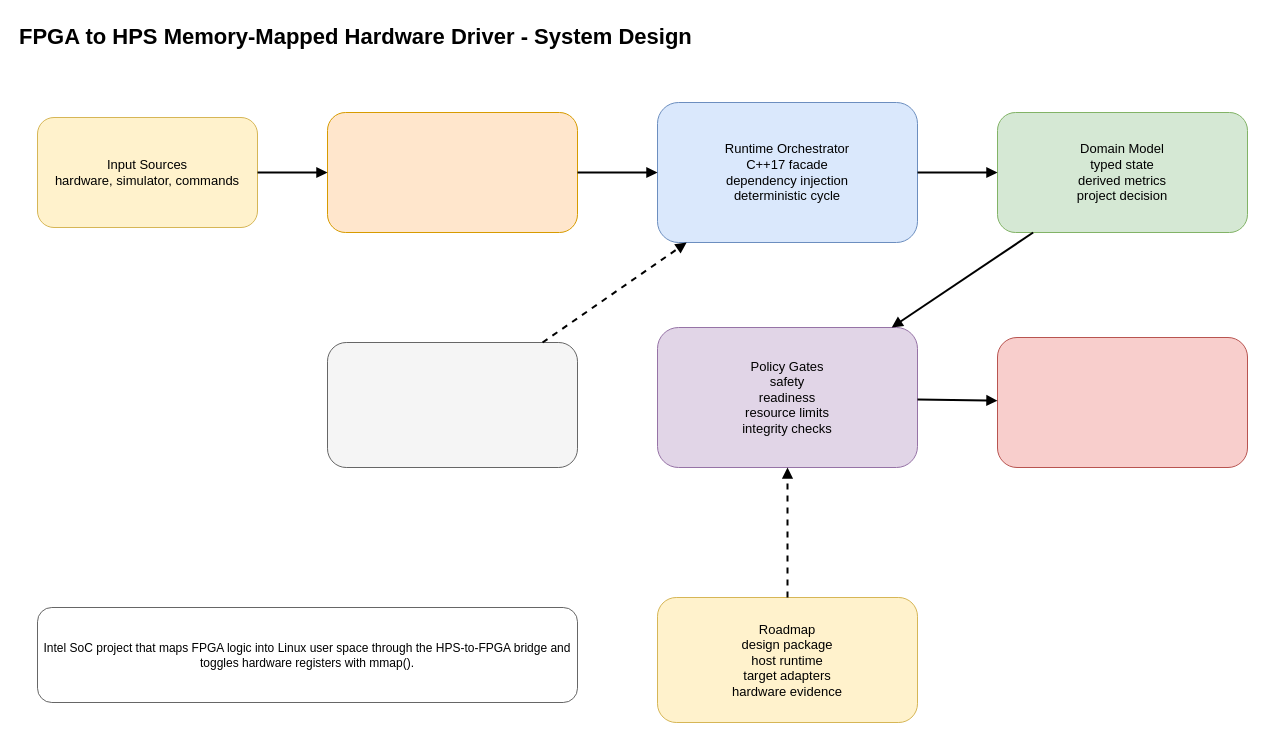
Some shapes in this 1265 by 740 pixel diagram are drawn without their labels. The box of each missing label's shape, as (x1, y1, x2, y2) in pixels:
Adapter Layer bus / OS / driver / transport boundaries: (326, 112, 578, 232)
Evidence Outputs telemetry logs reports control/persistence: (996, 336, 1248, 468)
Validation CTest scenarios CI hardware evidence production fixture: (326, 342, 578, 468)
